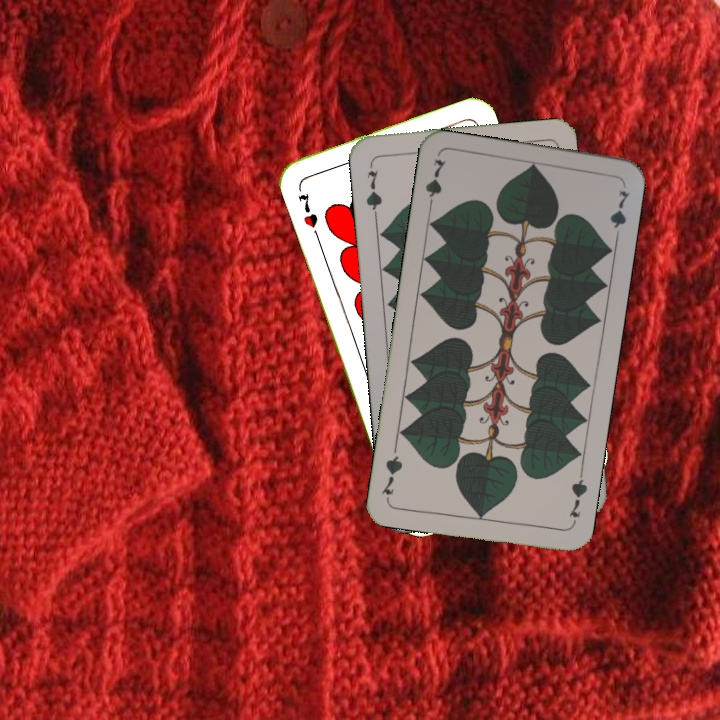G7: (421, 155, 449, 213), (564, 469, 590, 528), (362, 159, 385, 218)
H7: (293, 189, 320, 231)
